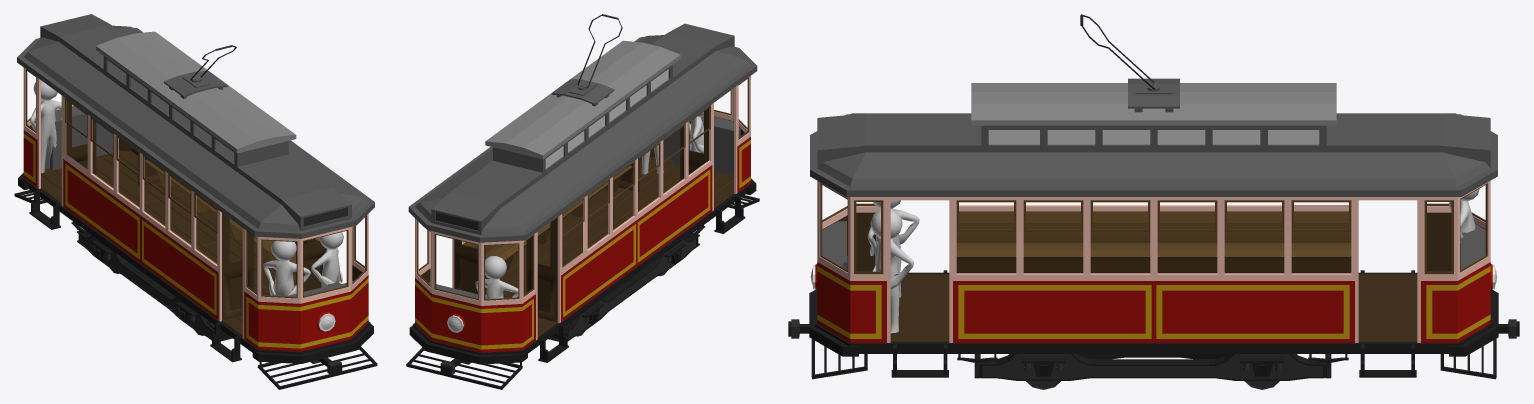
The model's file is Tram.fbx.
The picture shows the model from 3 angles, left to right: view 1: azimuth 30°, elevation 25°; view 2: azimuth 150°, elevation 25°; view 3: azimuth 270°, elevation 25°; orthographic projection. The views are drawn at different scales.
Visible parts, largest first — view 1: roof, main, ground, Char_Model_remesh, Char_Model_remesh_1, Char_Model_remesh_2; view 2: roof, main, ground, Char_Model_remesh_1, Char_Model_remesh; view 3: main, roof, ground, Char_Model_remesh_2, Char_Model_remesh.
Part boxes in pixels (<box>): roof: <box>17,14,374,238</box>; main: <box>23,68,368,351</box>; ground: <box>14,151,377,389</box>; Char_Model_remesh: <box>263,241,310,296</box>; Char_Model_remesh_1: <box>30,80,61,173</box>; Char_Model_remesh_2: <box>311,232,343,287</box>; roof: <box>408,14,757,242</box>; main: <box>415,76,750,352</box>; ground: <box>406,157,759,389</box>; Char_Model_remesh_1: <box>475,256,518,298</box>; Char_Model_remesh: <box>689,112,703,153</box>; main: <box>810,181,1497,342</box>; roof: <box>810,14,1497,196</box>; ground: <box>788,270,1519,380</box>; Char_Model_remesh_2: <box>870,209,913,333</box>; Char_Model_remesh: <box>867,200,919,297</box>.
Size of the model in its own units: 25.99 by 50.97 by 97.82.
Materials: 3 (1 with a texture image).
